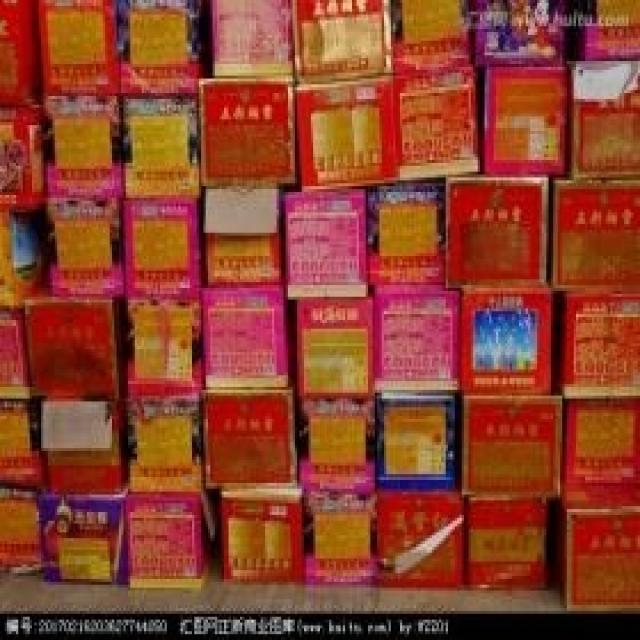box: (295, 73, 398, 192), (448, 169, 549, 288), (23, 285, 126, 399), (462, 387, 562, 497), (201, 375, 297, 489), (459, 285, 560, 393), (199, 73, 295, 186), (551, 175, 640, 291), (395, 64, 480, 180), (555, 497, 640, 611), (482, 64, 569, 175), (281, 186, 368, 297), (201, 285, 295, 387), (375, 285, 462, 393), (41, 93, 123, 207), (295, 285, 375, 399), (37, 483, 126, 585), (117, 0, 210, 96), (121, 195, 206, 300), (41, 393, 128, 495), (126, 492, 215, 591), (560, 399, 640, 509), (366, 180, 446, 288), (377, 489, 464, 588), (569, 58, 640, 177), (562, 291, 640, 399), (219, 486, 304, 585), (121, 93, 201, 198), (464, 495, 553, 588), (295, 396, 377, 495), (293, 0, 393, 81), (37, 0, 121, 96), (206, 188, 283, 291), (46, 201, 126, 300), (375, 393, 455, 489), (126, 297, 203, 396), (126, 393, 203, 492), (304, 489, 377, 588), (210, 0, 293, 76), (471, 0, 567, 64), (391, 0, 473, 73), (0, 105, 46, 209), (0, 207, 46, 308), (0, 399, 48, 492), (576, 0, 640, 58), (0, 489, 41, 576), (0, 308, 32, 399)
